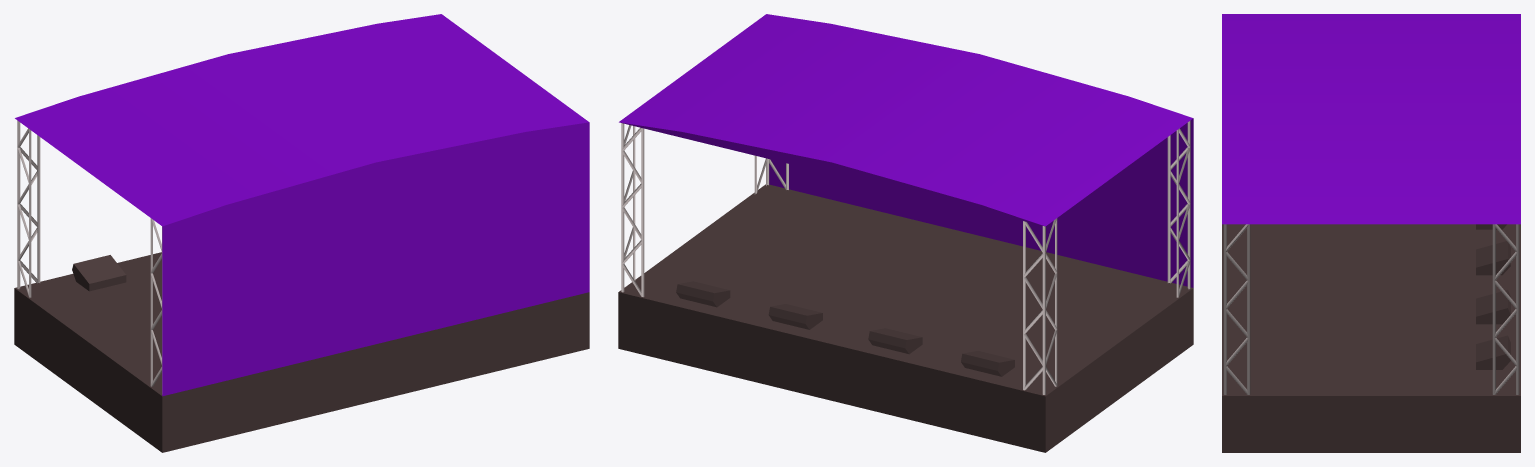
The model's file is Stage.obj.
The picture shows the model from 3 angles, left to right: view 1: azimuth 30°, elevation 25°; view 2: azimuth 150°, elevation 25°; view 3: azimuth 270°, elevation 25°; orthographic projection.
Parts seen in each view (by area): view 1: stan, podium, sloupy; view 2: podium, stan, sloupy; view 3: podium, stan, sloupy.
Boxes of the visible parts, box(x1,y1,x2,y2) form: stan: box(15, 14, 589, 396); podium: box(14, 252, 589, 452); sloupy: box(17, 120, 162, 394); podium: box(618, 184, 1193, 452); stan: box(619, 14, 1193, 287); sloupy: box(621, 120, 1190, 394); podium: box(1222, 224, 1520, 452); stan: box(1222, 14, 1520, 224); sloupy: box(1223, 224, 1519, 394).
Bounding box in the file's own units: 300 × 160 × 180.
